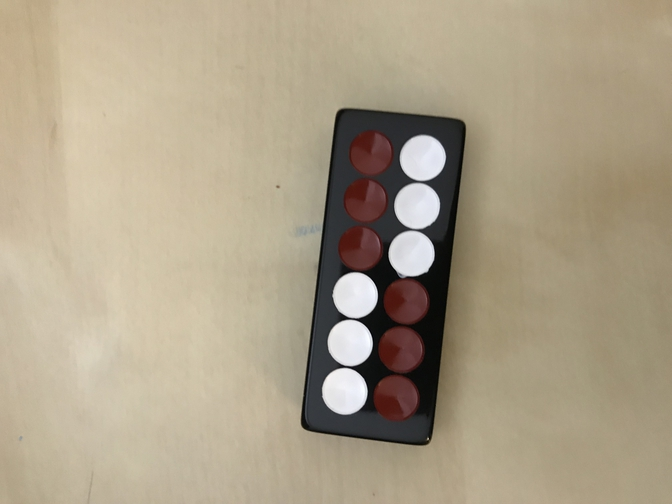heaven: (299, 107, 466, 445)
